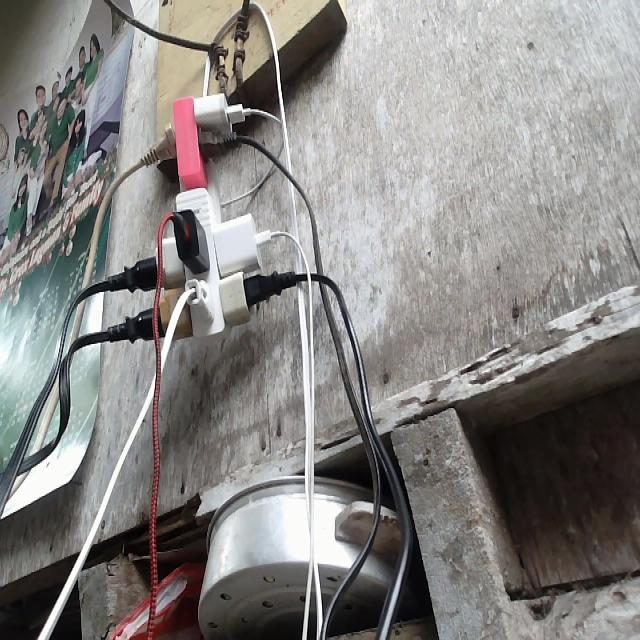-: (129, 90, 280, 342)
